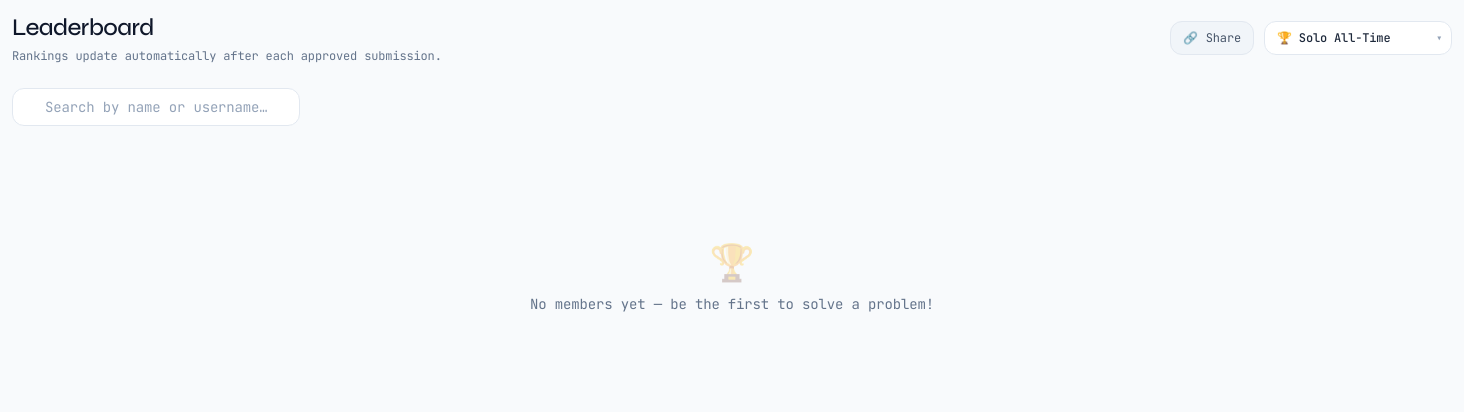
Test: Feature 9: Leaderboard Clans & Mentors Tabs › renders squads tab with encouraging empty state when database has zero squads
The width and height of the screenshot is (1464, 412).
Switch to Clans & Squads tab via dropdown
Select "🛡️ Clans & Squads" in the dropdown: {"x": 1358, "y": 38} [1264,21,1452,55]
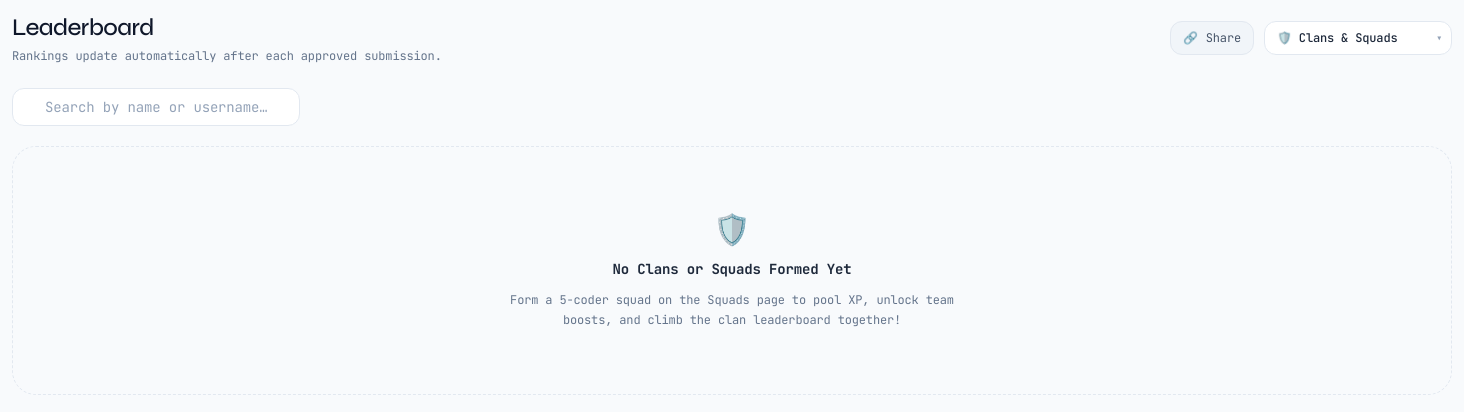
Expected: the text "No Clans or Squads Formed Yet" is shown, [612,260,852,278]
